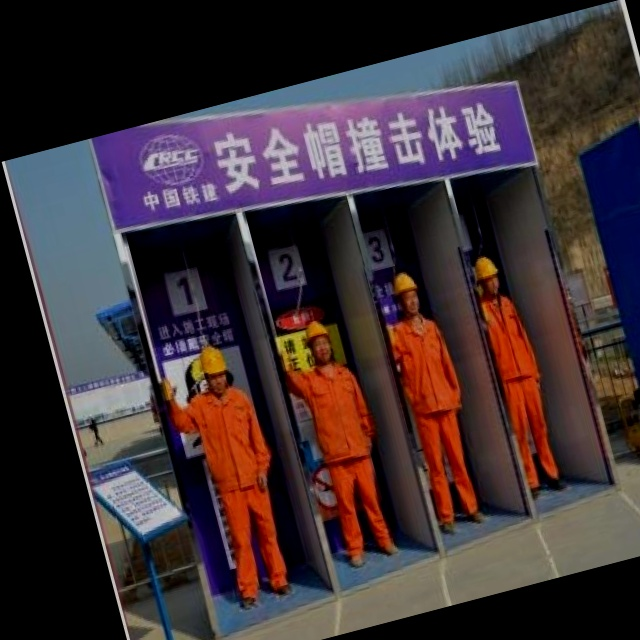Con_Casco: (299, 316, 337, 367), (196, 342, 229, 387), (390, 271, 423, 315)
Sin_Chaleco: (191, 384, 268, 496), (388, 310, 464, 420), (299, 358, 375, 465)
